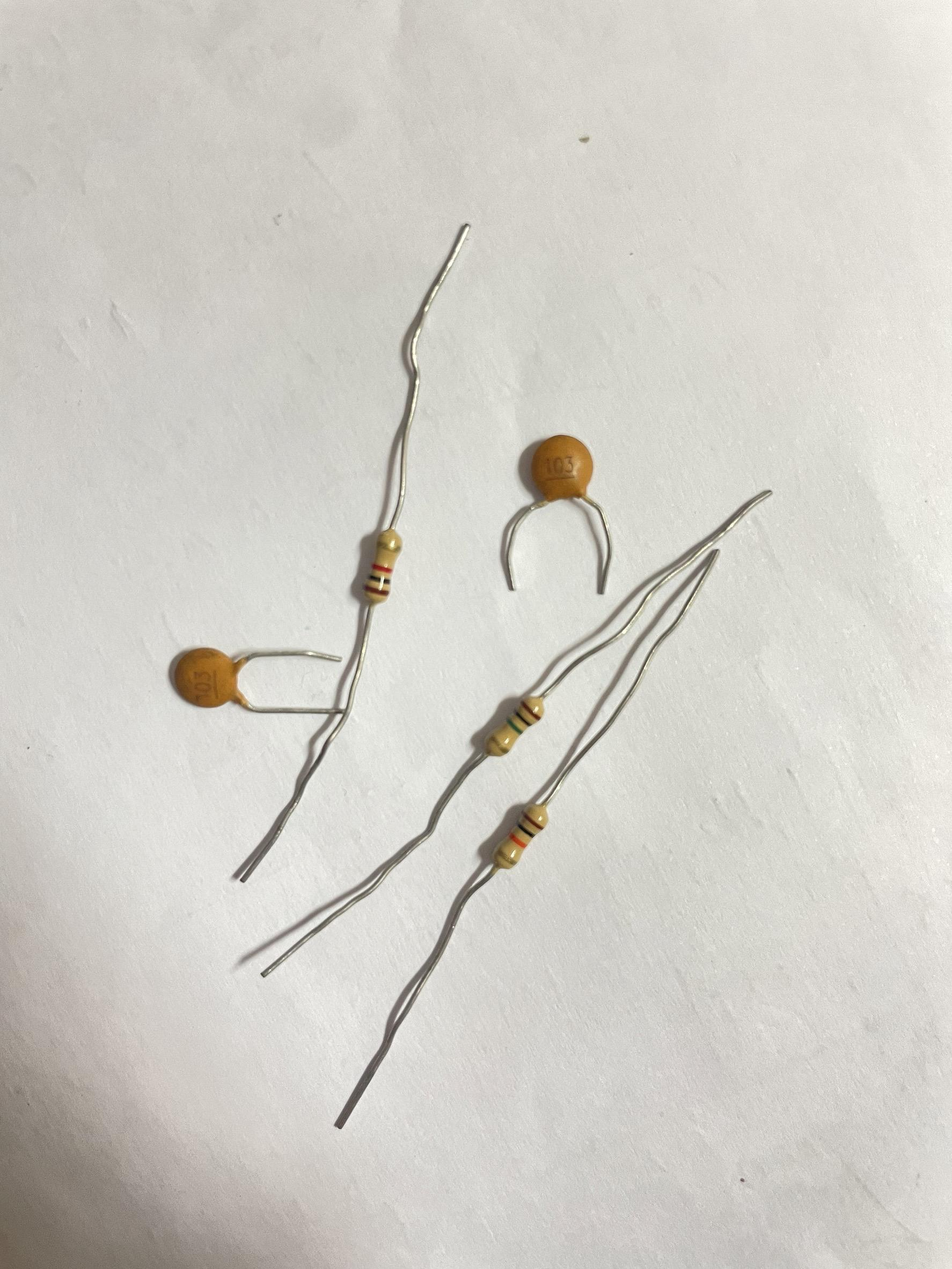resistor: (481, 694, 547, 756), (494, 798, 549, 869), (360, 526, 404, 604)
